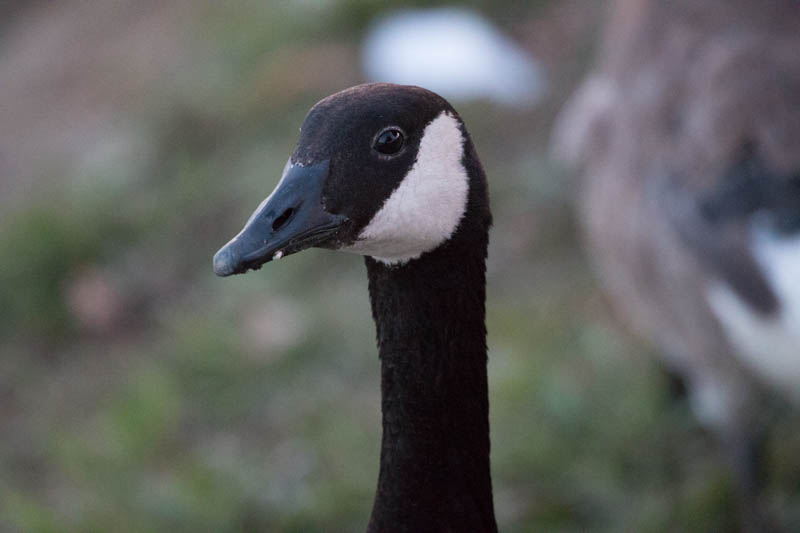goose-head: (211, 82, 492, 279)
